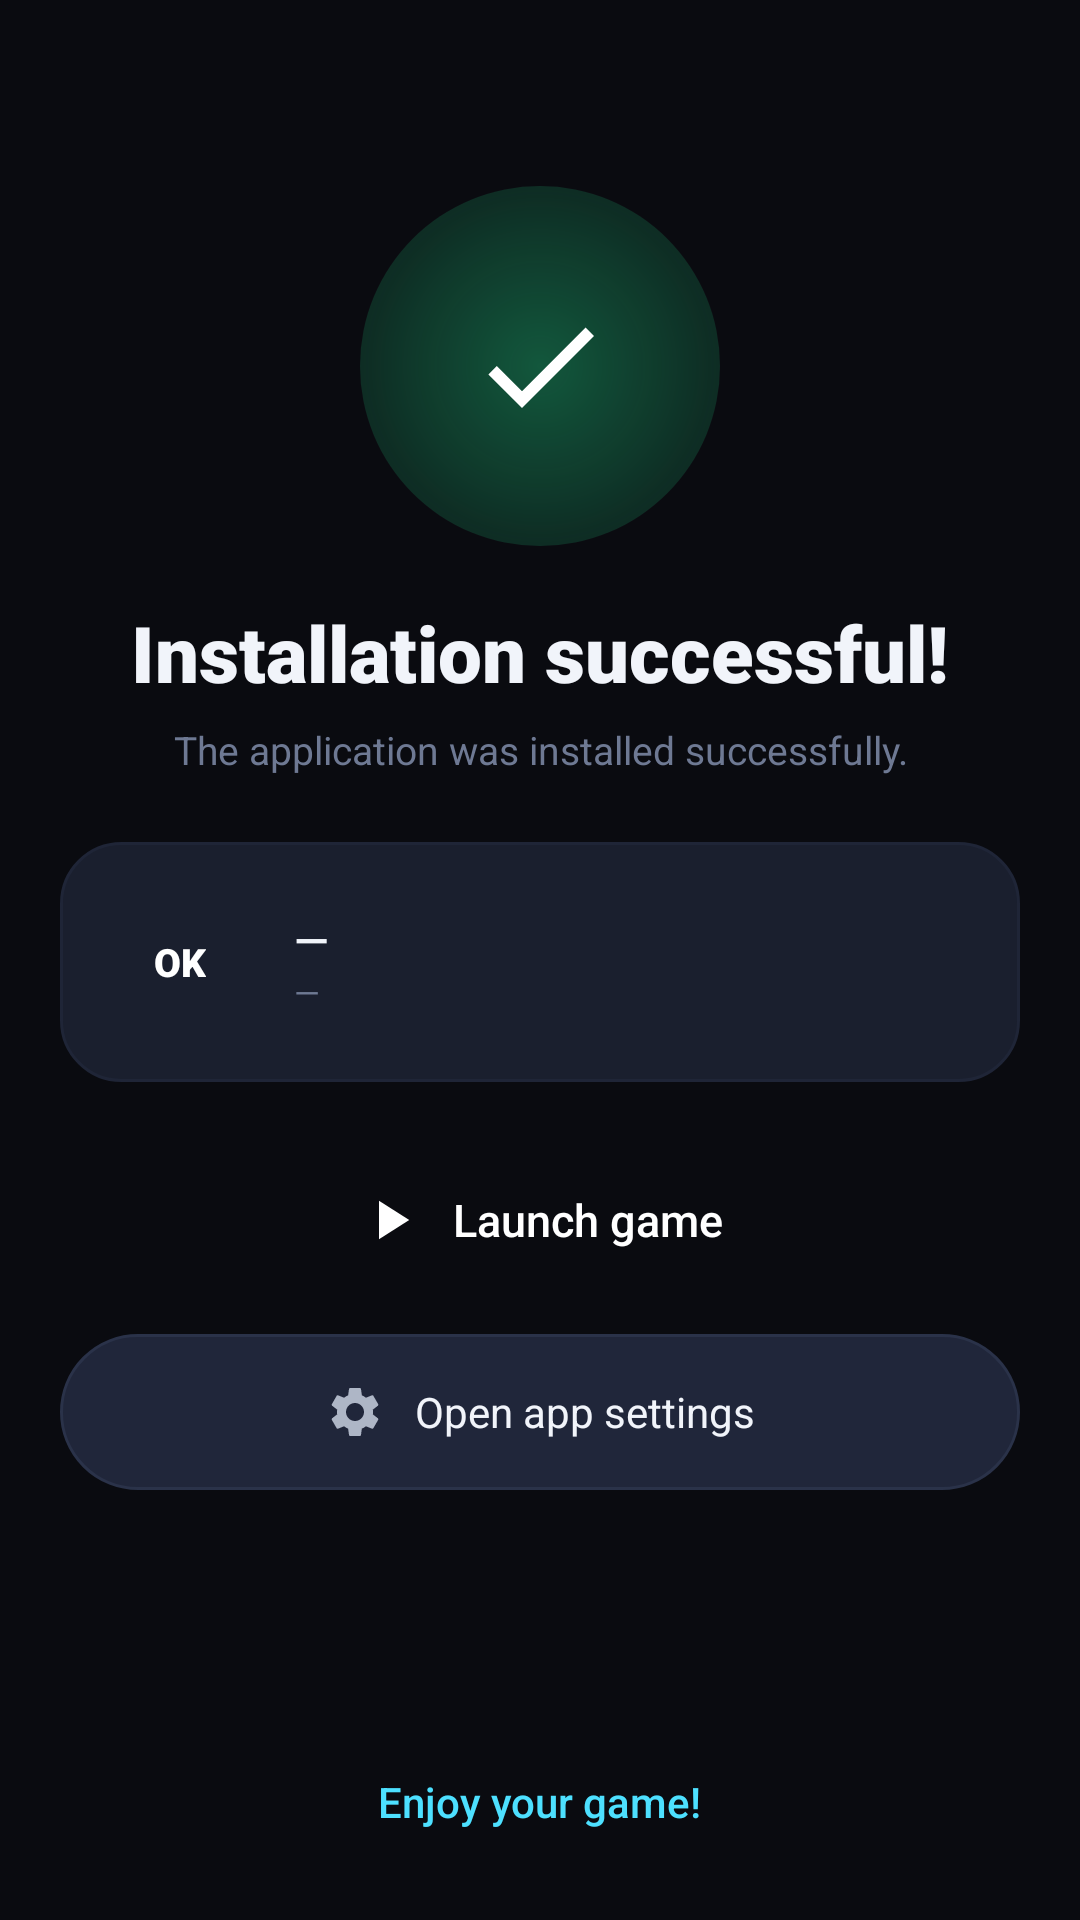

Named icons in this screenshot (1080×1920) and their bounding boxes, region(x1, y1, x2, y2):
gear: region(331, 1388, 379, 1436)
play: region(379, 1201, 409, 1239)
